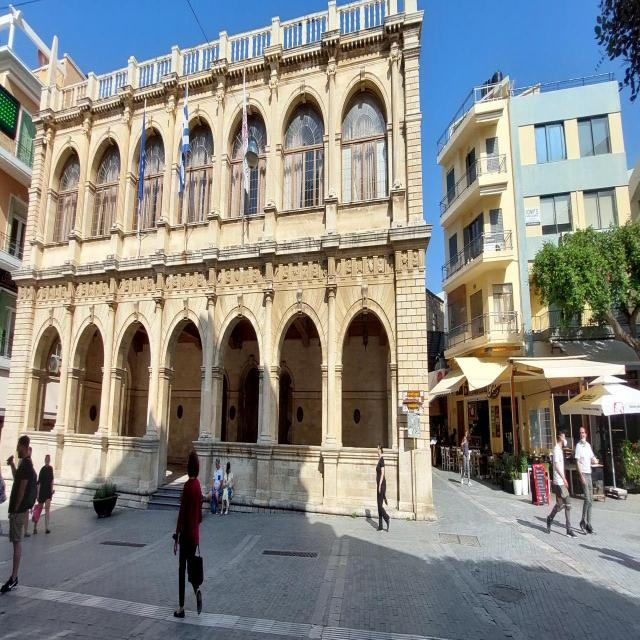Loggia: (1, 1, 426, 525)
